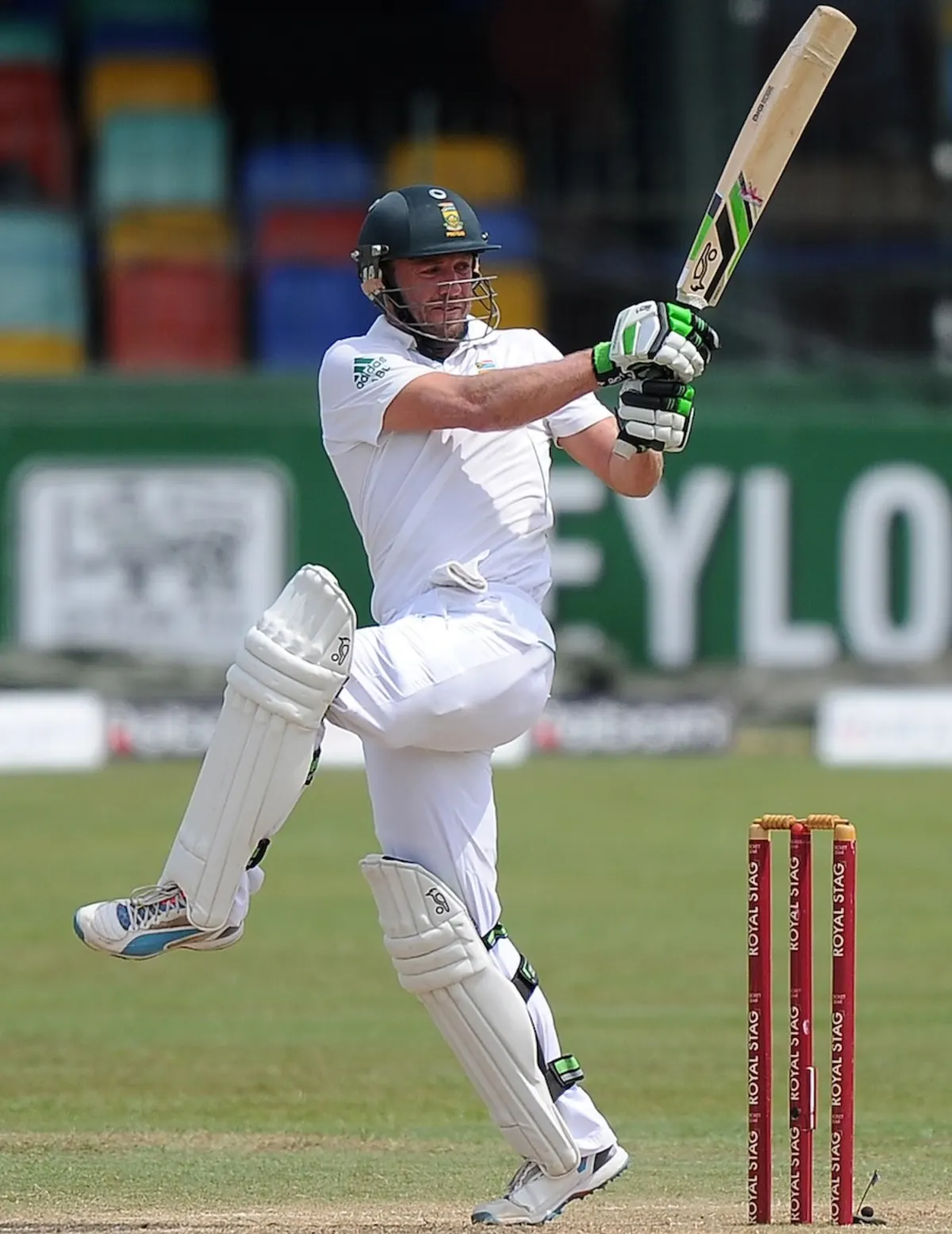Pullshot: (29, 3, 903, 1234)
